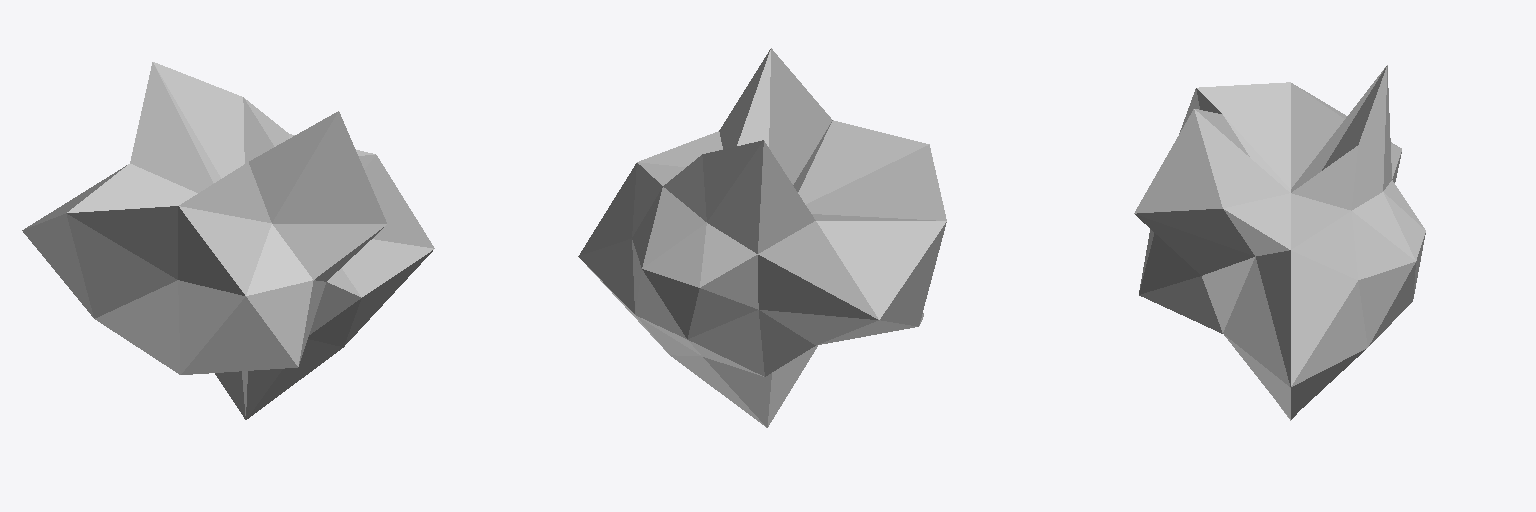
The model's file is gem2.obj.
3 views of the same model, side by side, from view 1: azimuth 30°, elevation 25°; view 2: azimuth 150°, elevation 25°; view 3: azimuth 270°, elevation 25° (orthographic).
Parts seen in each view (by area): view 1: _001_dx_0; view 2: _001_dx_0; view 3: _001_dx_0.
Part boxes in pixels (left/top/right/bottom): _001_dx_0: left=22, top=62, right=434, bottom=419; _001_dx_0: left=578, top=48, right=946, bottom=427; _001_dx_0: left=1134, top=65, right=1425, bottom=420.
Size of the model in its own units: 0.3666 by 0.3178 by 0.2517.